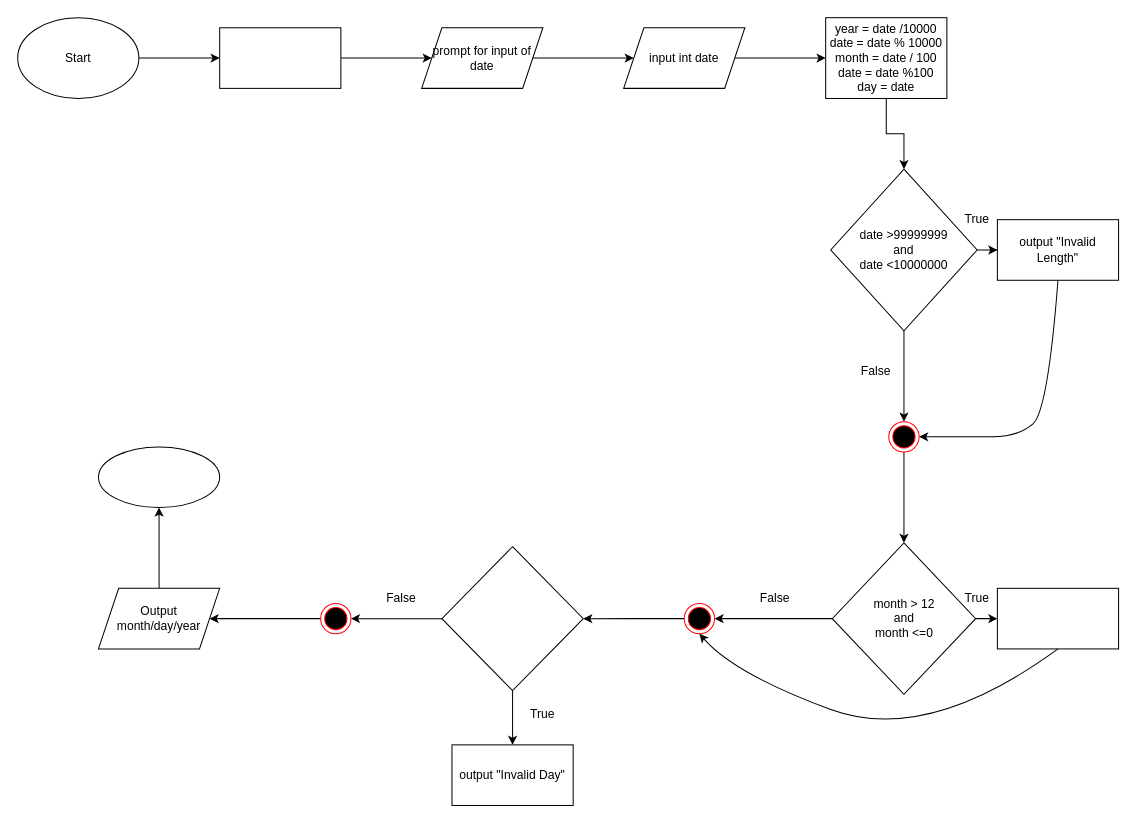
The diagram is 1136 pixels wide and 823 high, and some of its shapes have lost their labels. The centre of each missing label's shape, as x and y in pixels:
day <=0 and day >31: pixel 512 618
End: pixel 158 477
int- date, year, month, day: pixel 280 57
output "Invalid Month": pixel 1057 618
